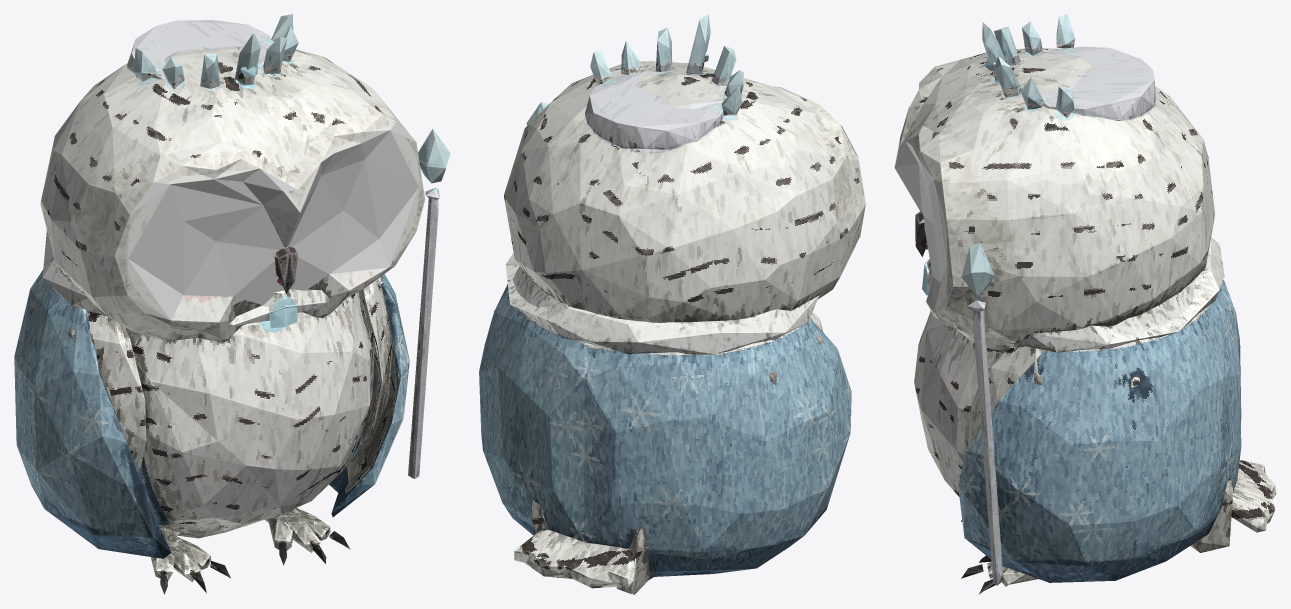
Rendered from queen.glb.
The picture shows the model from 3 angles, left to right: view 1: azimuth 30°, elevation 25°; view 2: azimuth 150°, elevation 25°; view 3: azimuth 270°, elevation 25°; orthographic projection. The views are drawn at different scales.
Visible parts, largest first — view 1: body_mesh, head_mesh, eye_l, eye_r, wing_r_mesh, wing_l_mesh, leg_r_mesh, leg_l_mesh; view 2: body_mesh, head_mesh, tail_mesh, wing_l_mesh, wing_r_mesh; view 3: head_mesh, body_mesh, wing_r_mesh, eye_r, tail_mesh, leg_r_mesh.
Boxes of the visible parts, bbox=[...] form: body_mesh: bbox=[14, 230, 409, 558]; head_mesh: bbox=[40, 14, 425, 342]; eye_l: bbox=[128, 169, 299, 320]; eye_r: bbox=[281, 122, 418, 290]; wing_r_mesh: bbox=[358, 129, 450, 478]; wing_l_mesh: bbox=[30, 302, 146, 472]; leg_r_mesh: bbox=[265, 507, 350, 565]; leg_l_mesh: bbox=[151, 527, 230, 594]; body_mesh: bbox=[479, 253, 851, 576]; head_mesh: bbox=[504, 14, 865, 322]; tail_mesh: bbox=[514, 529, 636, 588]; wing_l_mesh: bbox=[616, 312, 823, 594]; wing_r_mesh: bbox=[494, 102, 558, 577]; head_mesh: bbox=[895, 14, 1214, 350]; body_mesh: bbox=[914, 237, 1241, 582]; wing_r_mesh: bbox=[961, 242, 1233, 585]; eye_r: bbox=[894, 141, 946, 312]; tail_mesh: bbox=[1231, 460, 1276, 532]; leg_r_mesh: bbox=[961, 555, 1037, 594].
Bounding box in the file's own units: 33.04 × 46.57 × 30.59.
Materials: 2 (1 with a texture image).
